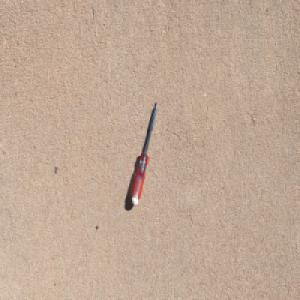Screwdriver: (131, 99, 159, 206)
